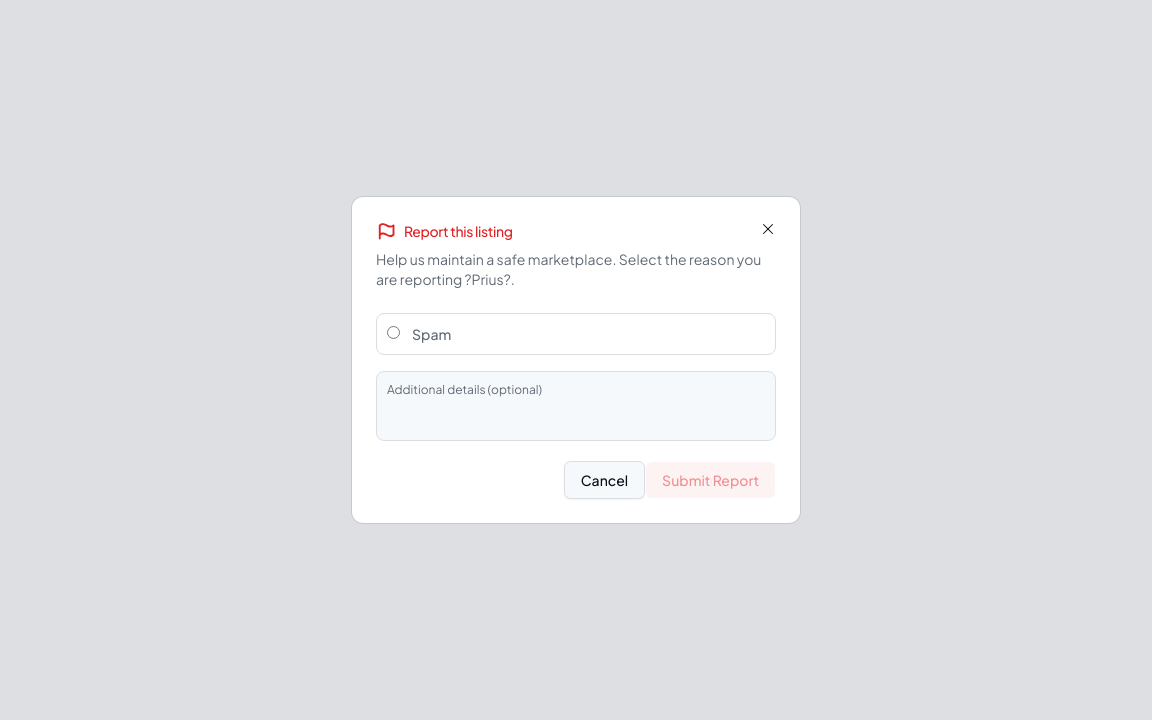
Test: <ListingReportDialog /> › keeps submit disabled until a reason is chosen and shows backend errors
Expected: the button "Submit Report" is disabled, x1=645 y1=461 x2=776 y2=499
Click the radio button labelled "Spam" at (394, 332), box x1=387 y1=326 x2=400 y2=339
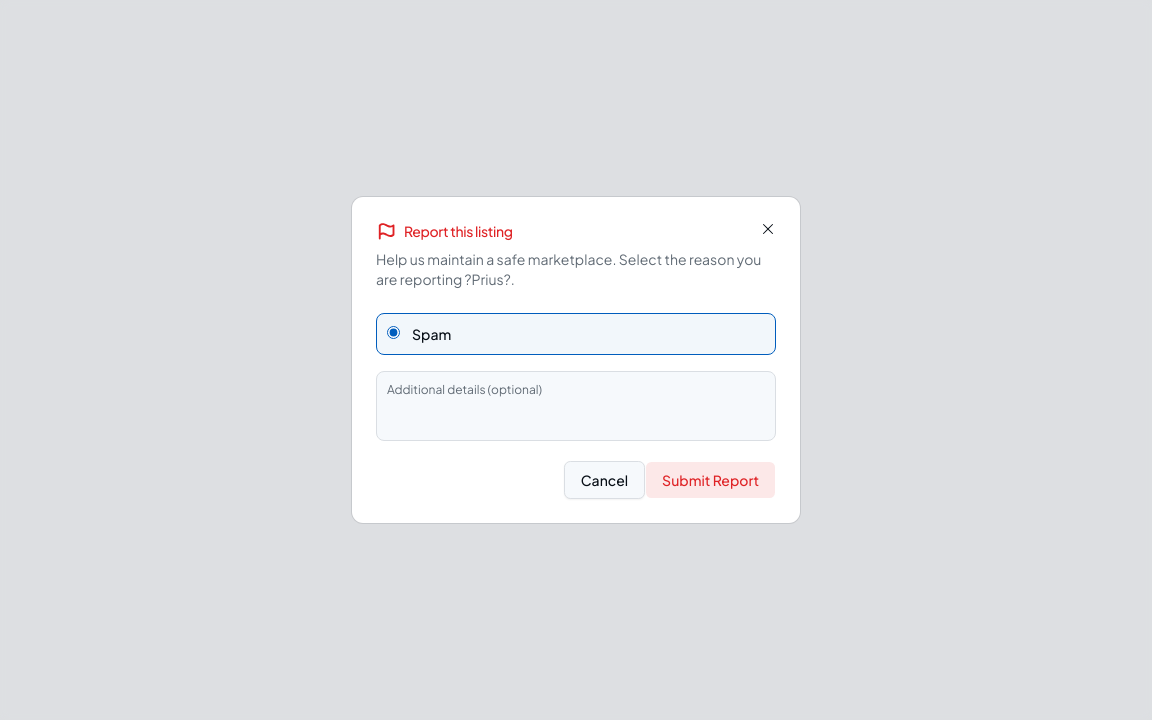
Click the button "Submit Report" at (711, 480), box x1=645 y1=461 x2=776 y2=499
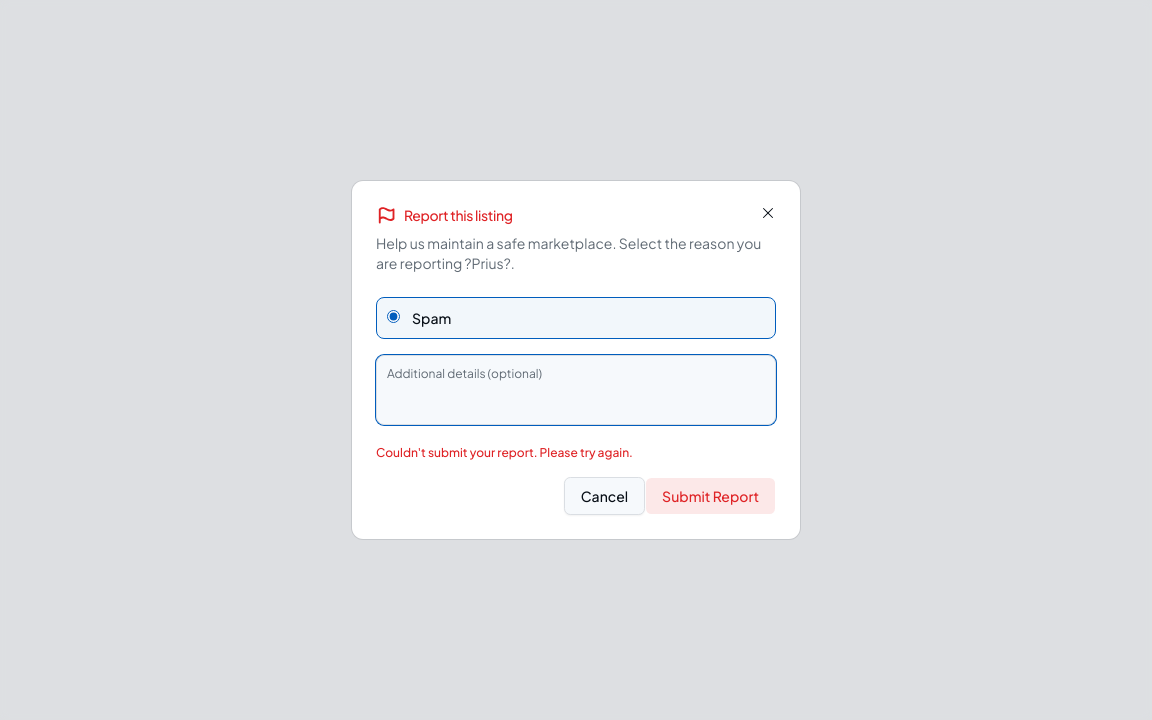
Now the message shows "Couldn't submit", box x1=376 y1=445 x2=633 y2=460
